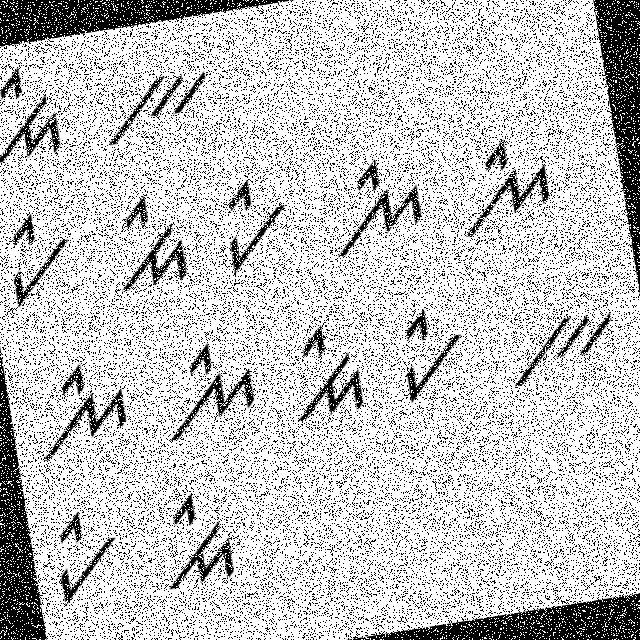di: (273, 318, 371, 430), (154, 484, 248, 594), (103, 185, 196, 296), (0, 57, 74, 171)
ni: (150, 330, 272, 451), (451, 122, 568, 242), (321, 146, 436, 268), (27, 348, 140, 462)
pi: (374, 297, 474, 413), (32, 502, 132, 612), (207, 170, 302, 276), (0, 199, 84, 313)
